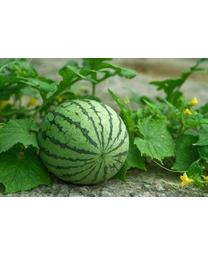watermelon: (36, 97, 130, 186)
